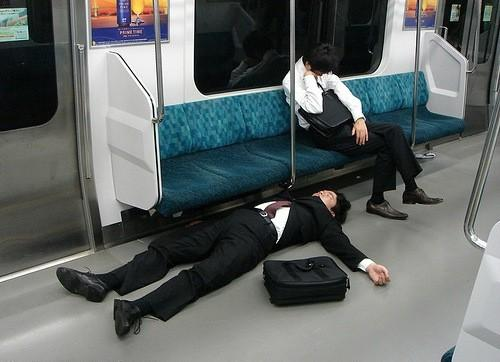bending: (284, 43, 445, 223)
down: (60, 183, 396, 342)
